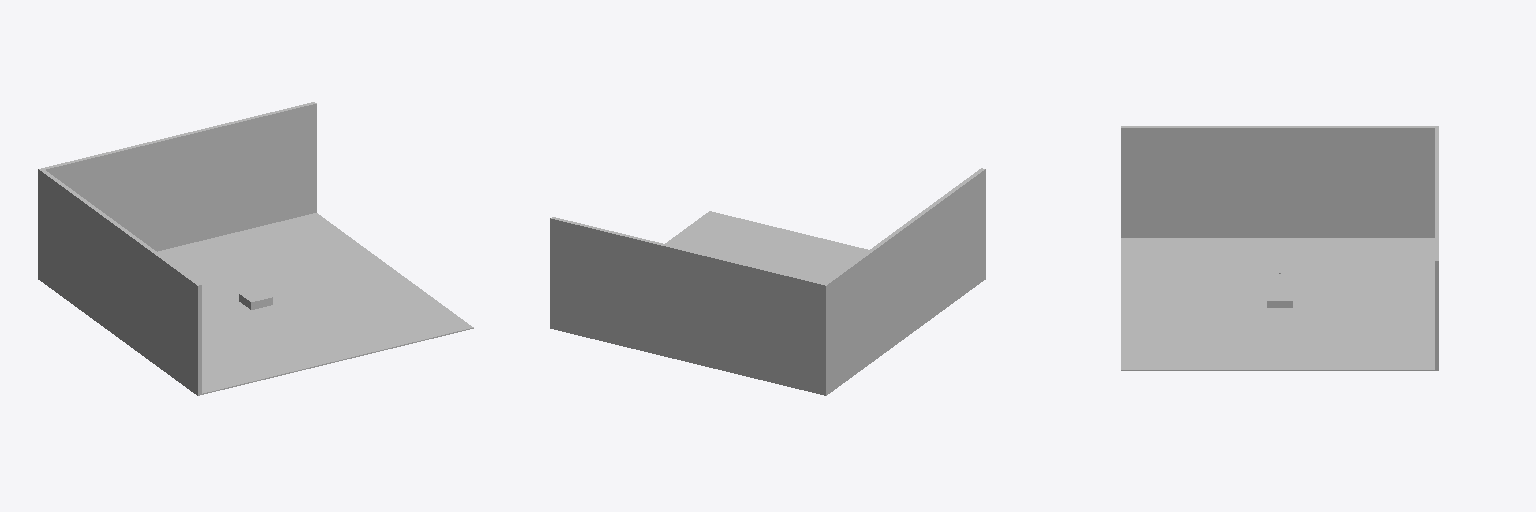
File: bottle.obj
3 views of the same model, side by side, from view 1: azimuth 30°, elevation 25°; view 2: azimuth 150°, elevation 25°; view 3: azimuth 270°, elevation 25° (orthographic).
Parts seen in each view (by area): view 1: pCube1_Untitled, Cube; view 2: pCube1_Untitled; view 3: pCube1_Untitled.
Part boxes in pixels (x1,y1,x2,y2): pCube1_Untitled: (38, 102, 473, 395); Cube: (239, 288, 272, 309); pCube1_Untitled: (550, 168, 985, 395); pCube1_Untitled: (1121, 126, 1438, 370).
Bounding box in the file's own units: 25 × 10.78 × 25.